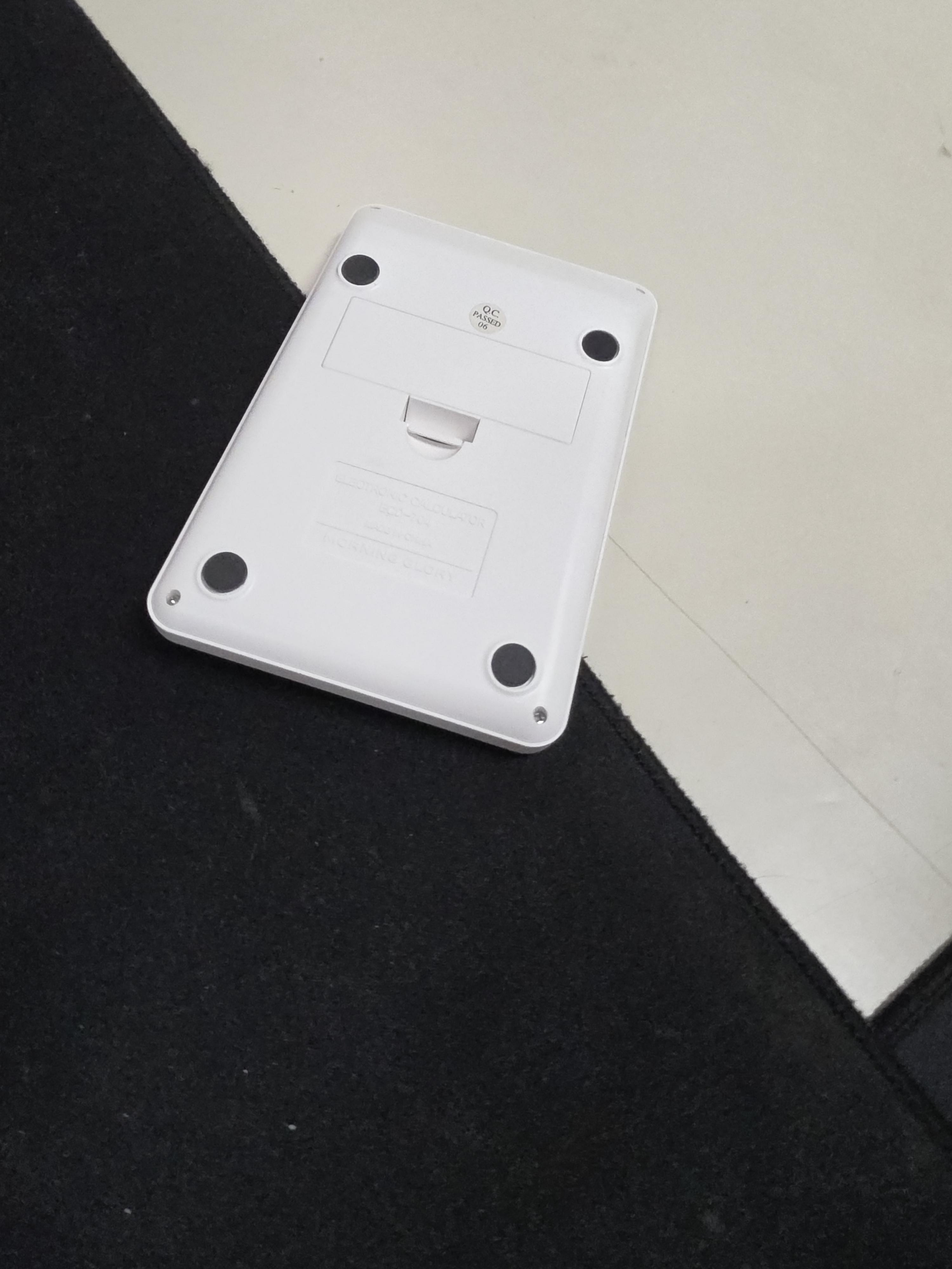calculator: (148, 204, 658, 755)
